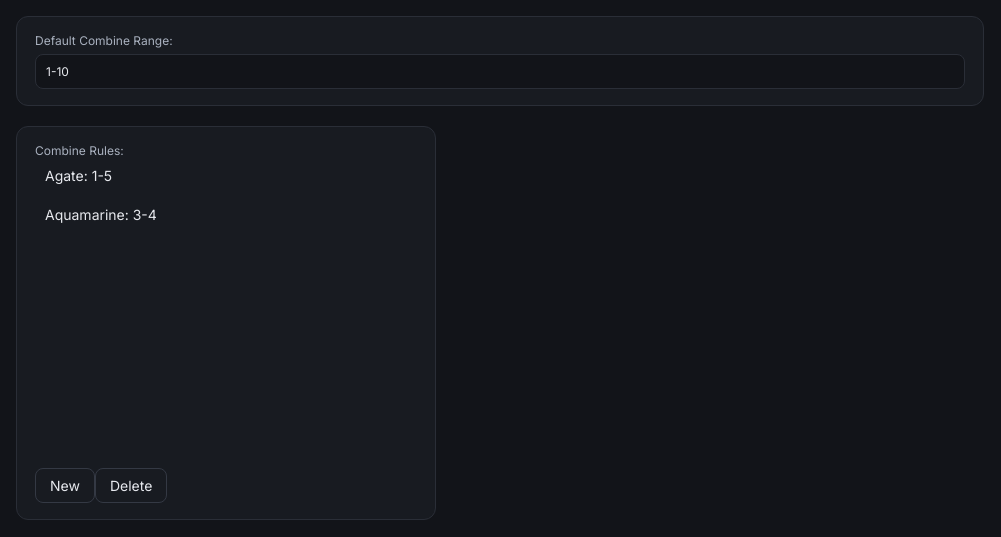
Test: SalvageCombineTab › edits the range of the selected entry
Click the button "Aquamarine: 3-4".
click(101, 214)  # box x1=35 y1=197 x2=417 y2=232
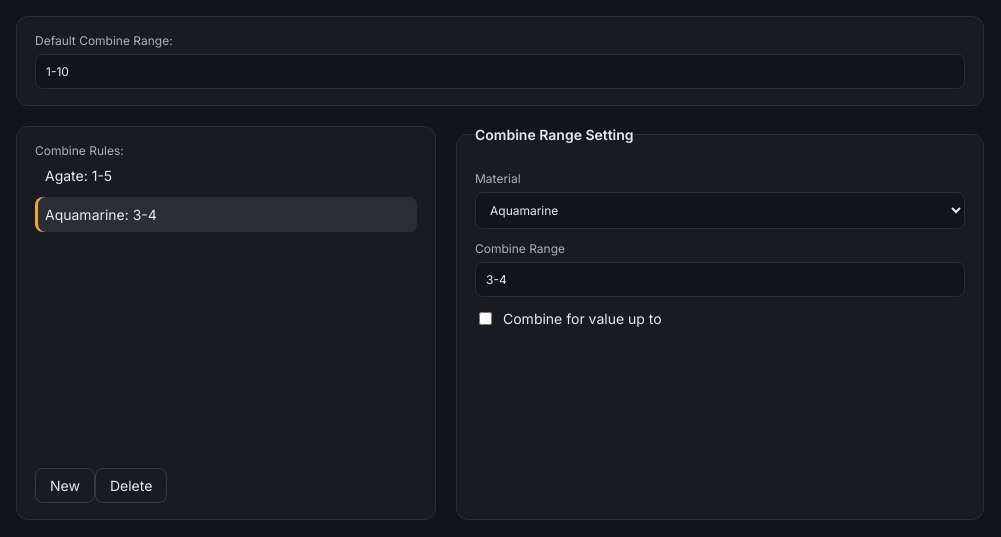
Replace the text in the field labelled "Combine Range" with "5-6" at (720, 280), box x1=475 y1=262 x2=965 y2=297
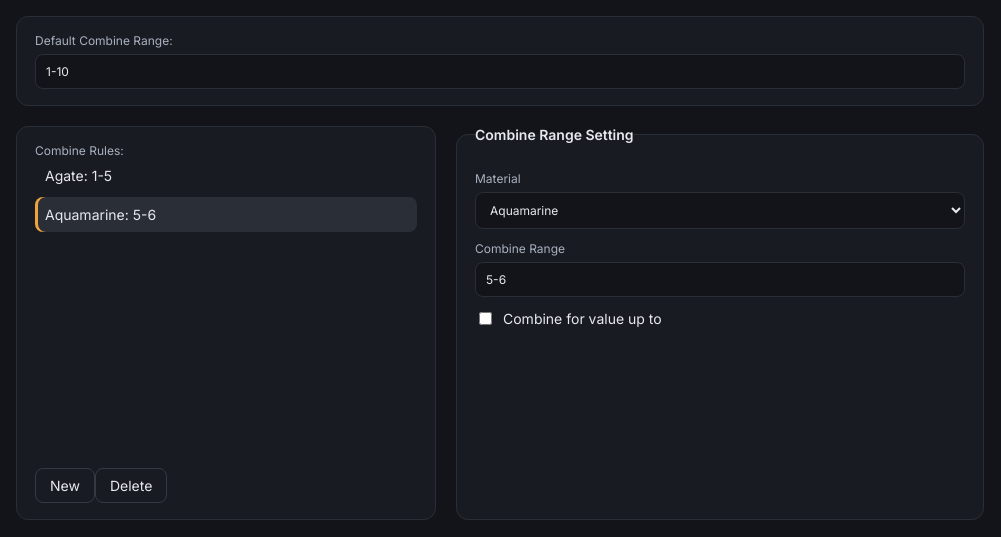
Check: the button named "3-4" shows ": 5-6", box x1=35 y1=197 x2=417 y2=232
